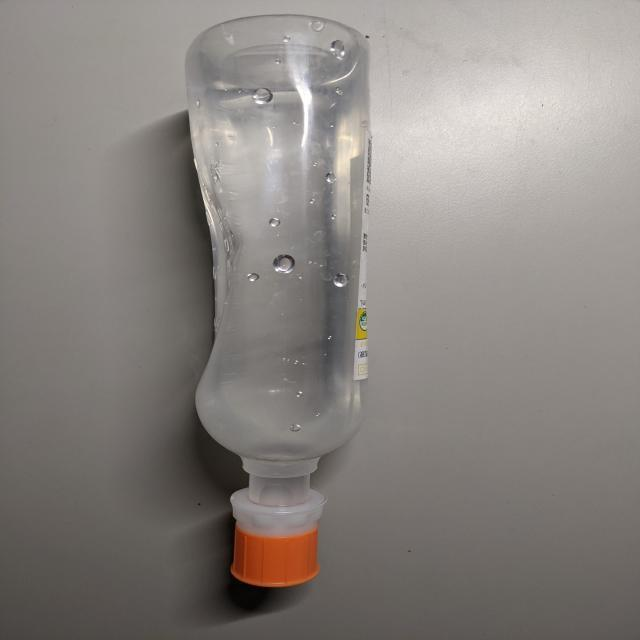Plastic: (191, 14, 373, 588)
